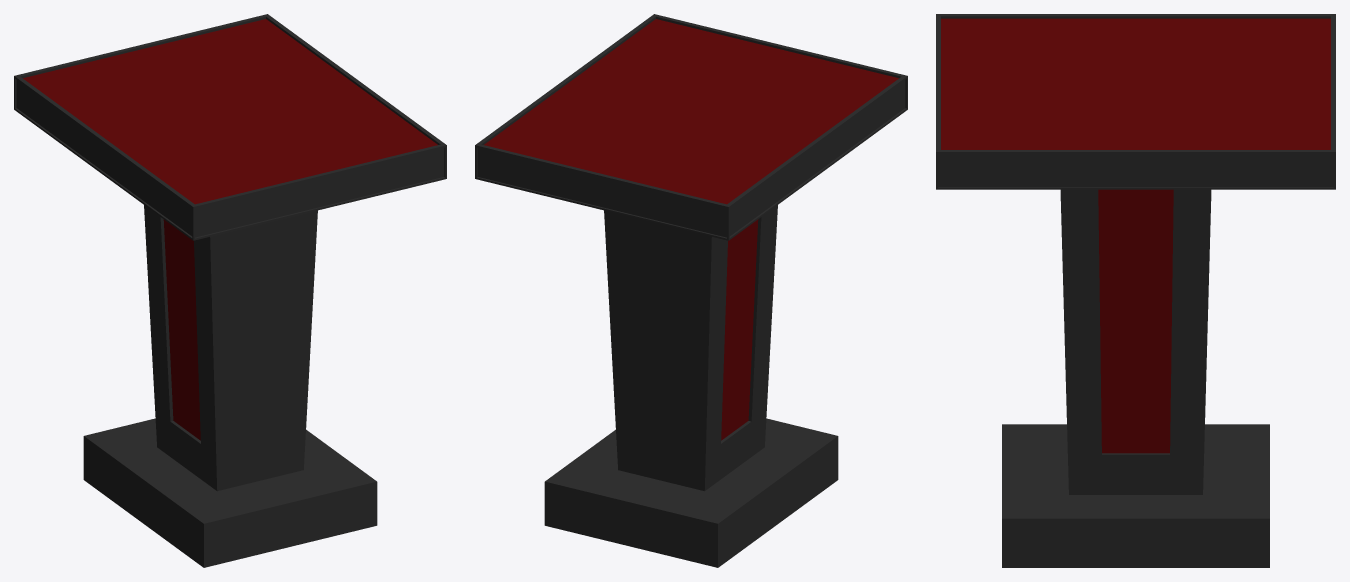
Rendered from Table_WhatsInTheHat.fbx.
3 views of the same model, side by side, from view 1: azimuth 30°, elevation 25°; view 2: azimuth 150°, elevation 25°; view 3: azimuth 270°, elevation 25° (orthographic). The views are drawn at different scales.
Parts seen in each view (by area): view 1: Main_Table, Table_Top, Side_Panels; view 2: Main_Table, Table_Top, Side_Panels; view 3: Main_Table, Table_Top, Side_Panels.
Part boxes in pixels (x1=…): Main_Table: x1=14, y1=14, x2=446, y2=567; Table_Top: x1=23, y1=19, x2=437, y2=204; Side_Panels: x1=163, y1=219, x2=200, y2=440; Main_Table: x1=475, y1=14, x2=907, y2=567; Table_Top: x1=484, y1=19, x2=898, y2=204; Side_Panels: x1=721, y1=219, x2=758, y2=440; Main_Table: x1=936, y1=14, x2=1335, y2=567; Table_Top: x1=941, y1=18, x2=1330, y2=149; Side_Panels: x1=1098, y1=189, x2=1173, y2=453.
Size of the model in its own units: 293 by 433 by 358.
